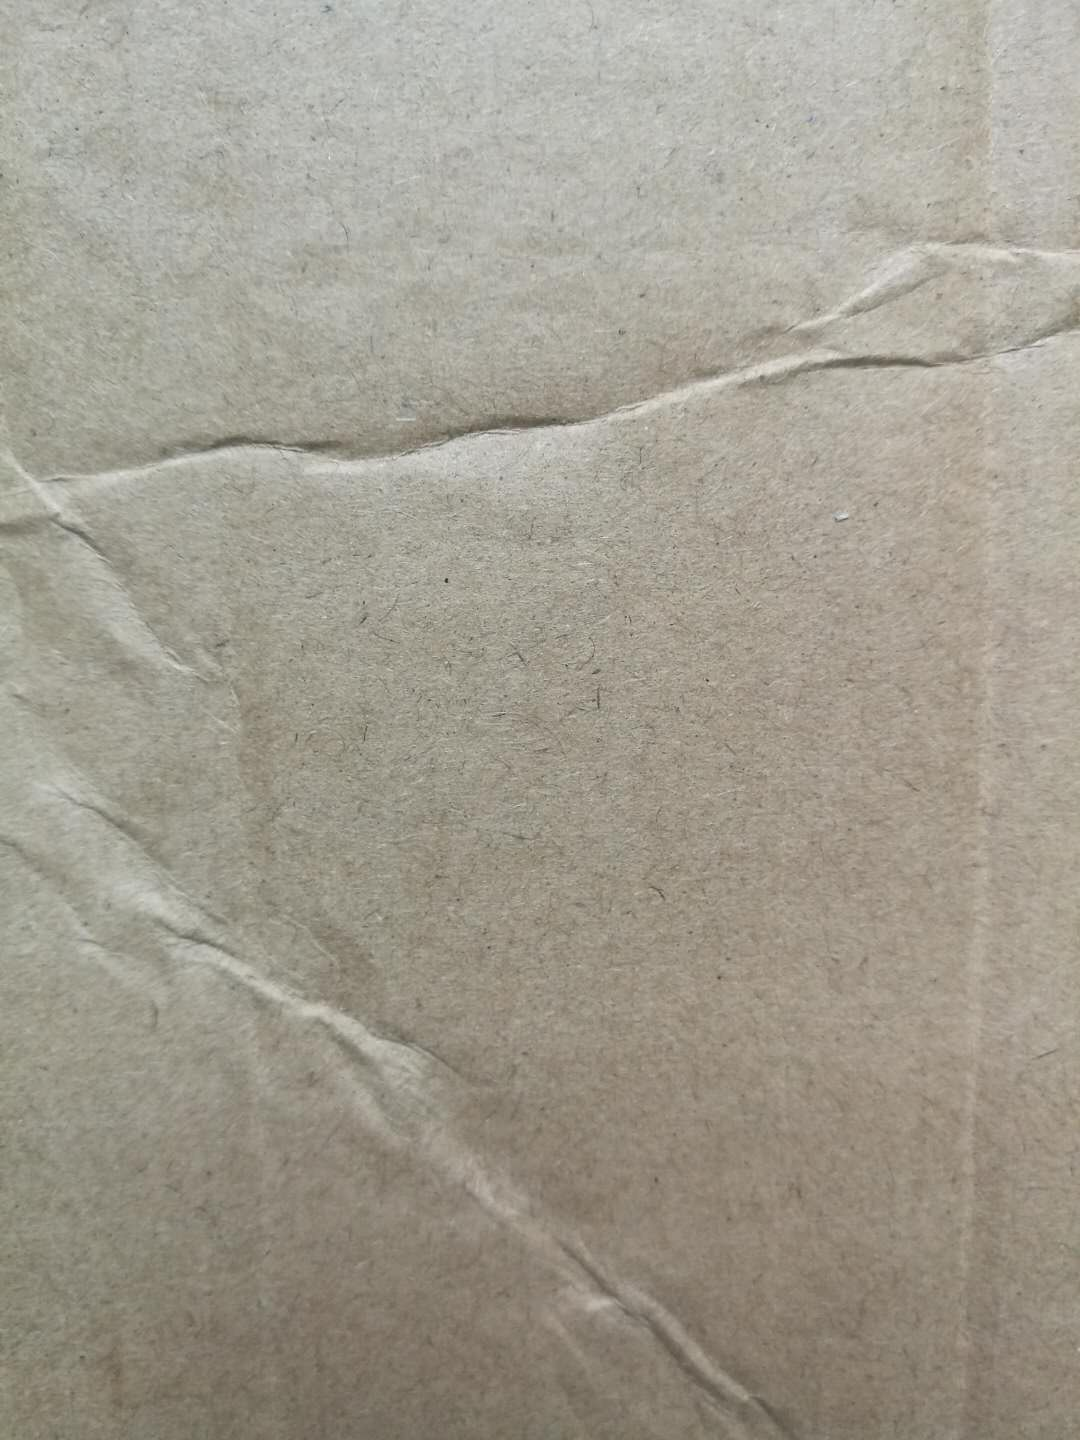defect: (3, 693, 817, 1440), (2, 187, 1080, 686), (892, 5, 1064, 1440)
